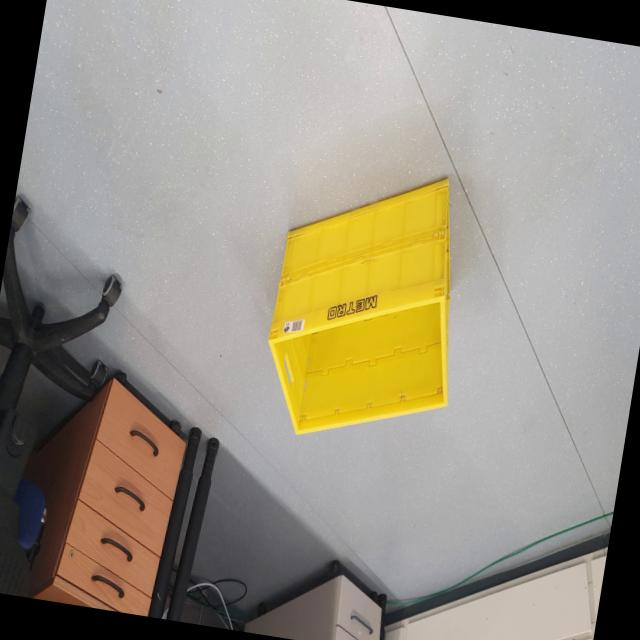box: (237, 142, 500, 488)
